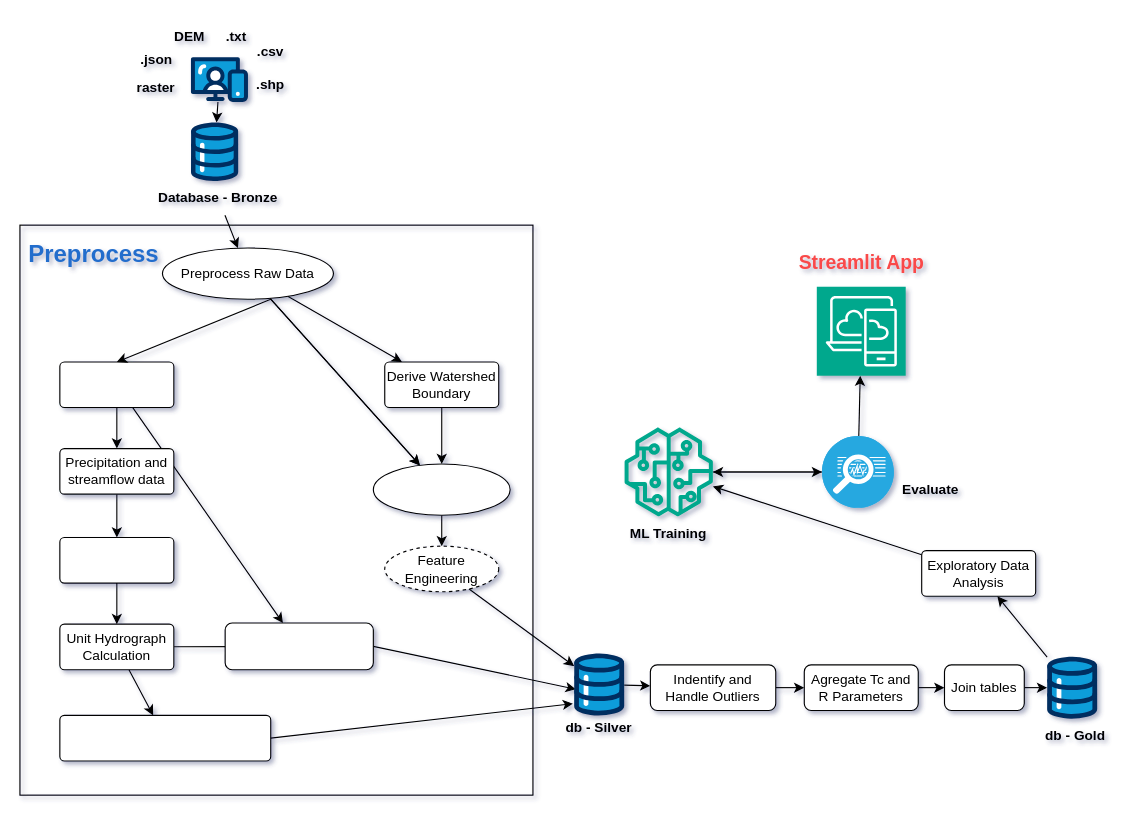
This 1140x822 diagram has some shape labels left out. The shapes that lost their labels are listed below. From the top down, each one's centre as x and y in pixels, then its label:
At (116,384): "Storm Event Selection".
At (441,489): "Watershed Characteristics".
At (116,559): "Base flow separation".
At (298,646): "Precipitation Metadata and Characteristics".
At (165,737): "Tc and R ModClark IUH Parameters Optmisation".
